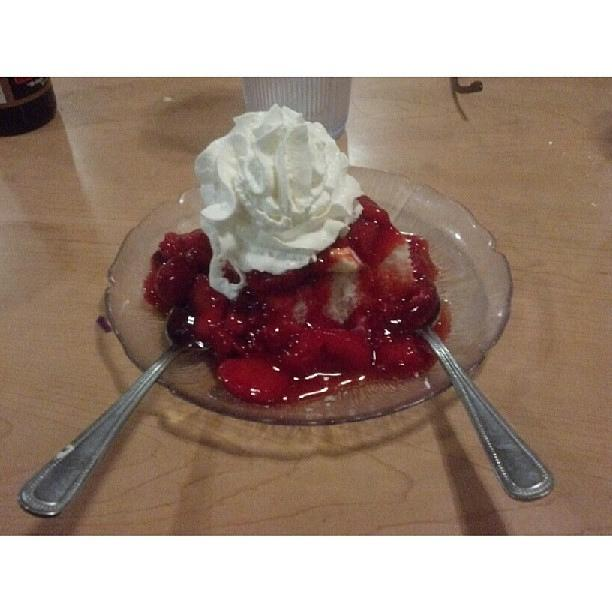raspberry: (216, 358, 292, 405), (374, 335, 425, 378), (320, 330, 371, 370), (344, 220, 386, 264), (408, 236, 438, 280), (188, 272, 218, 310), (194, 306, 224, 340), (259, 324, 290, 352), (243, 269, 279, 292), (266, 292, 298, 315), (186, 248, 210, 275)
